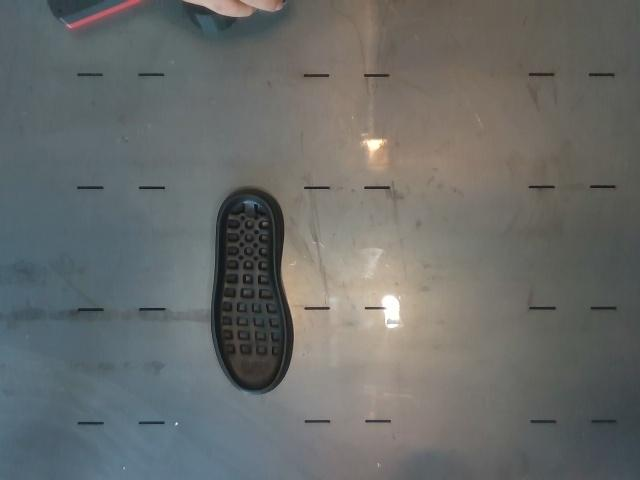shoes: (213, 195, 286, 391)
